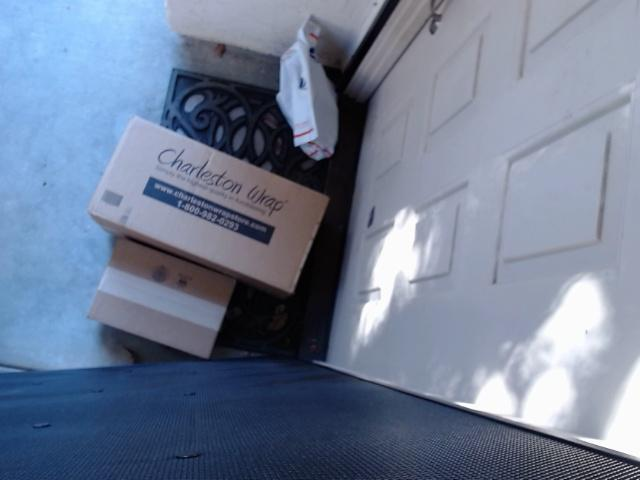box: (87, 115, 329, 299), (86, 236, 235, 360)
plastic_bag: (276, 13, 339, 161)
